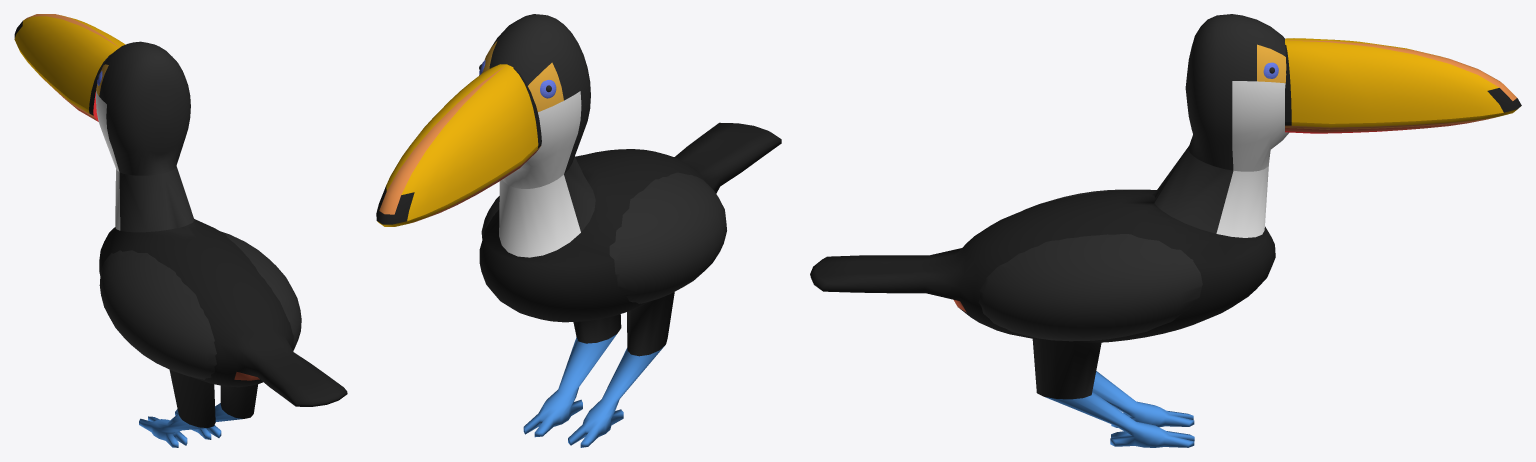
File: tucan.fbx
3 renders of one model, left to right at view 1: azimuth 30°, elevation 25°; view 2: azimuth 150°, elevation 25°; view 3: azimuth 270°, elevation 25°, orthographic. The views are drawn at different scales.
Parts seen in each view (by area): view 1: Cuerpo, Cabeza, Alas, Madibula; view 2: Cuerpo, Cabeza, Alas, Madibula; view 3: Cuerpo, Cabeza, Alas, Madibula.
Boxes of the visible parts, <box> form: Cuerpo: <box>99,166,347,447</box>; Cabeza: <box>14,14,190,175</box>; Alas: <box>99,231,301,379</box>; Madibula: <box>17,46,98,121</box>; Cuerpo: <box>479,122,781,447</box>; Cabeza: <box>376,14,590,224</box>; Alas: <box>481,155,726,303</box>; Madibula: <box>377,142,541,226</box>; Cuerpo: <box>810,146,1275,447</box>; Cabeza: <box>1185,14,1521,171</box>; Alas: <box>978,189,1202,341</box>; Madibula: <box>1285,108,1518,133</box>.
Bounding box in the file's own units: 272 × 582 × 904.
